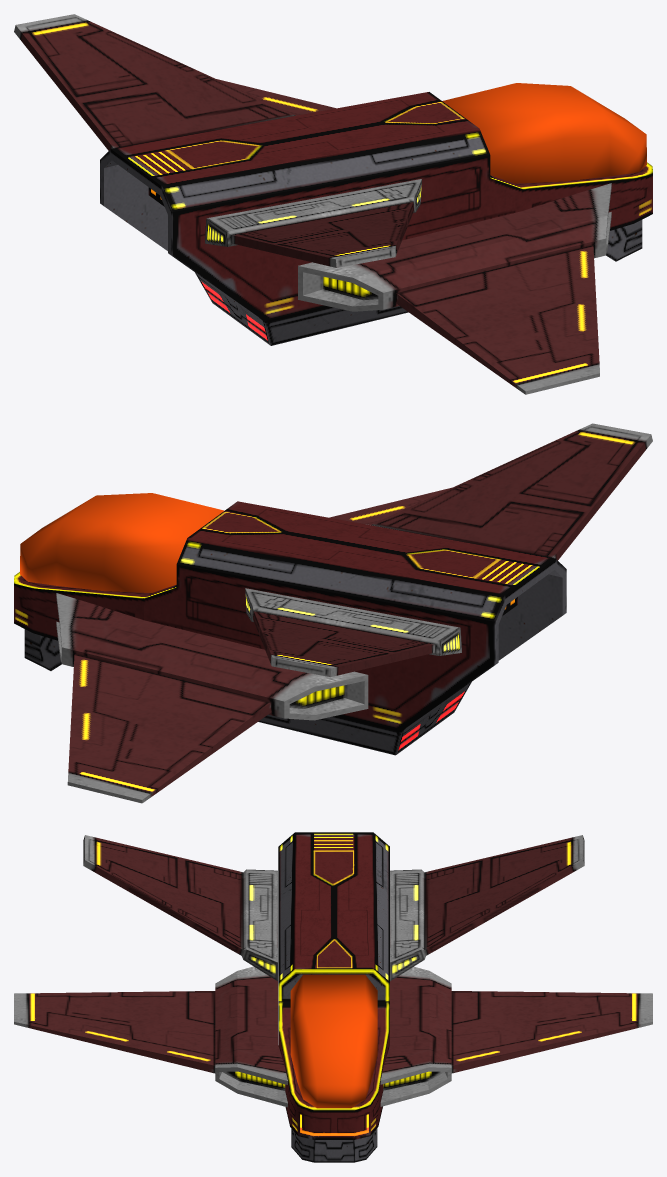
Rendered from EnemyMid1.fbx.
3 views of the same model, one above another, from view 1: azimuth 30°, elevation 25°; view 2: azimuth 150°, elevation 25°; view 3: azimuth 270°, elevation 25° (orthographic). The views are drawn at different scales.
Parts seen in each view (by area): view 1: EnemyShip1MainBody, EnemyShip1Wing, EnemyShip1SecondaryWing, EnemyShip1Glass, EnemyShip1SecondaryWing1, EnemyShip1Wing2; view 2: EnemyShip1MainBody, EnemyShip1Wing2, EnemyShip1SecondaryWing1, EnemyShip1Glass, EnemyShip1SecondaryWing, EnemyShip1Wing; view 3: EnemyShip1MainBody, EnemyShip1Wing, EnemyShip1Wing2, EnemyShip1SecondaryWing1, EnemyShip1SecondaryWing, EnemyShip1Glass.
Part boxes in pixels (left/top/right/bottom): EnemyShip1MainBody: left=100, top=92, right=652, bottom=345; EnemyShip1Wing: left=298, top=183, right=611, bottom=394; EnemyShip1SecondaryWing: left=14, top=14, right=295, bottom=150; EnemyShip1Glass: left=442, top=83, right=646, bottom=183; EnemyShip1SecondaryWing1: left=205, top=179, right=421, bottom=267; EnemyShip1Wing2: left=216, top=79, right=335, bottom=115; EnemyShip1MainBody: left=14, top=501, right=566, bottom=755; EnemyShip1Wing2: left=56, top=593, right=368, bottom=803; EnemyShip1SecondaryWing1: left=366, top=423, right=652, bottom=560; EnemyShip1Glass: left=20, top=493, right=224, bottom=592; EnemyShip1SecondaryWing: left=245, top=588, right=461, bottom=676; EnemyShip1Wing: left=329, top=487, right=451, bottom=524; EnemyShip1MainBody: left=278, top=832, right=389, bottom=1162; EnemyShip1Wing: left=14, top=966, right=287, bottom=1107; EnemyShip1Wing2: left=380, top=966, right=652, bottom=1106; EnemyShip1SecondaryWing1: left=83, top=835, right=277, bottom=981; EnemyShip1SecondaryWing: left=390, top=835, right=584, bottom=981; EnemyShip1Glass: left=290, top=974, right=377, bottom=1108.
Bounding box in the file's own units: 0.9635 × 0.3662 × 1.36.
